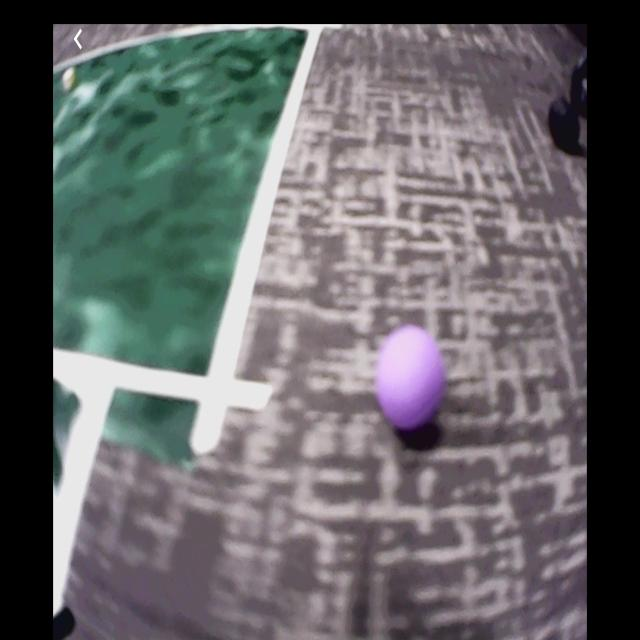ball: (380, 324, 445, 431)
